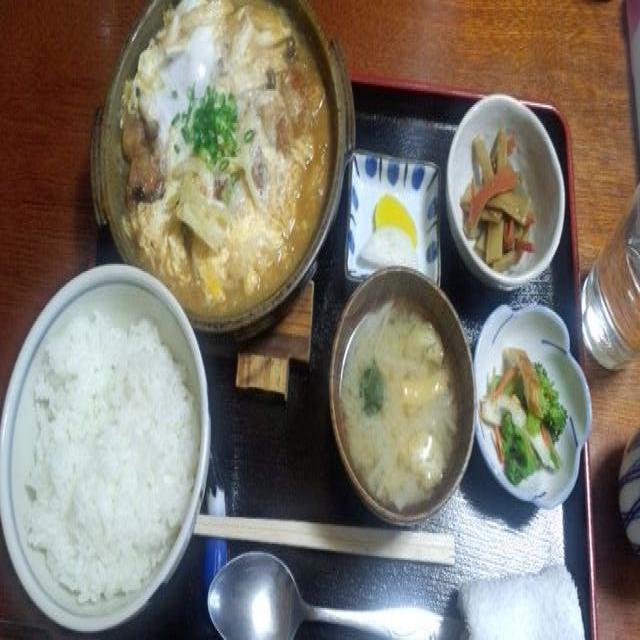Rice: (17, 296, 200, 604)
